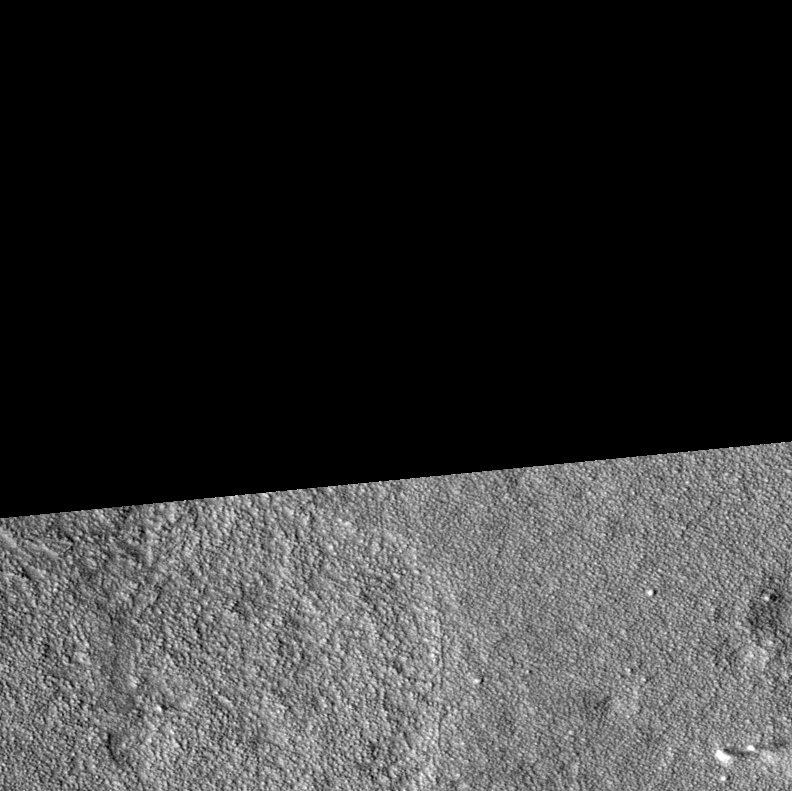dust_devil: (713, 738, 787, 765)
